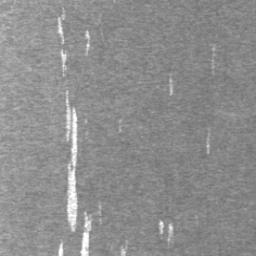White rust: (65, 90, 95, 256), (57, 6, 69, 77), (158, 218, 174, 246), (211, 42, 216, 78), (206, 127, 212, 155), (85, 30, 91, 56), (168, 72, 174, 97), (57, 240, 64, 256), (121, 240, 127, 256)
